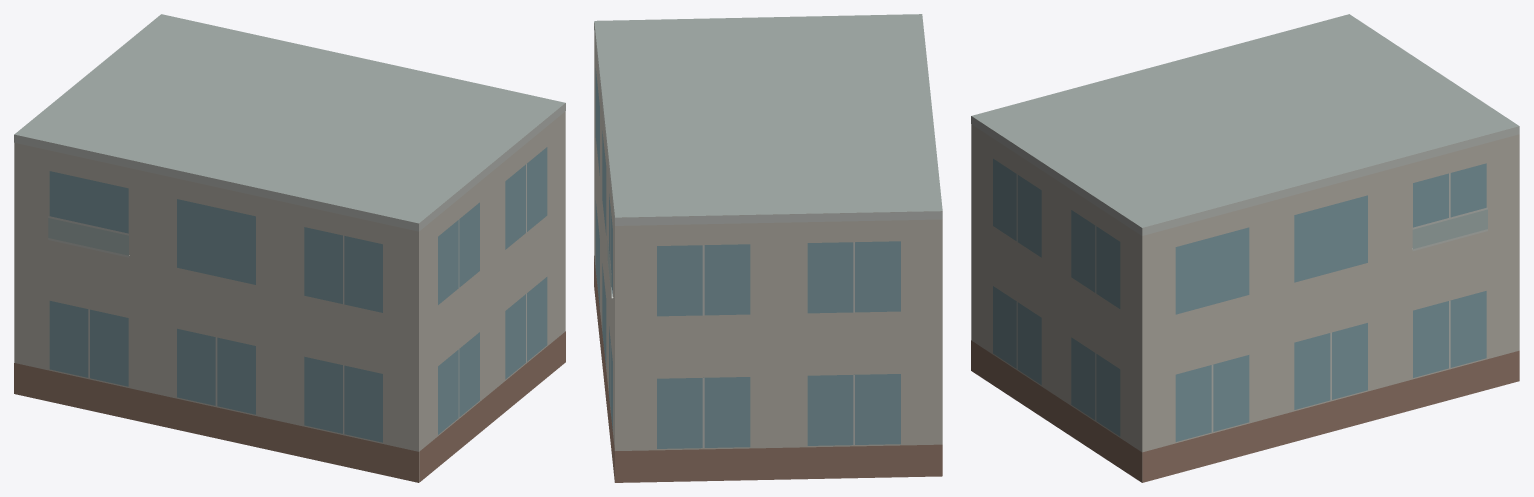
The model's file is survey-upis-32625094.glb.
3 views of the same model, side by side, from view 1: azimuth 30°, elevation 25°; view 2: azimuth 150°, elevation 25°; view 3: azimuth 270°, elevation 25° (orthographic). The views are drawn at different scales.
Parts seen in each view (by area): view 1: survey-upis-32625094.tmp; view 2: survey-upis-32625094.tmp; view 3: survey-upis-32625094.tmp.
Boxes of the visible parts, left/top/right/bottom form: survey-upis-32625094.tmp: left=14, top=14, right=565, bottom=482; survey-upis-32625094.tmp: left=594, top=14, right=942, bottom=482; survey-upis-32625094.tmp: left=971, top=14, right=1519, bottom=482.
Bounding box in the file's own units: 13.87 × 7.7 × 15.02.
